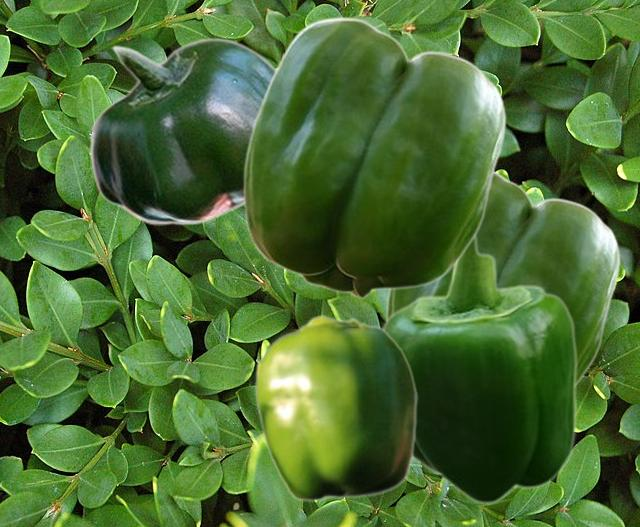bell_pepper: (242, 16, 505, 298), (381, 236, 577, 505), (385, 169, 619, 384), (88, 37, 275, 224), (254, 314, 417, 501)
